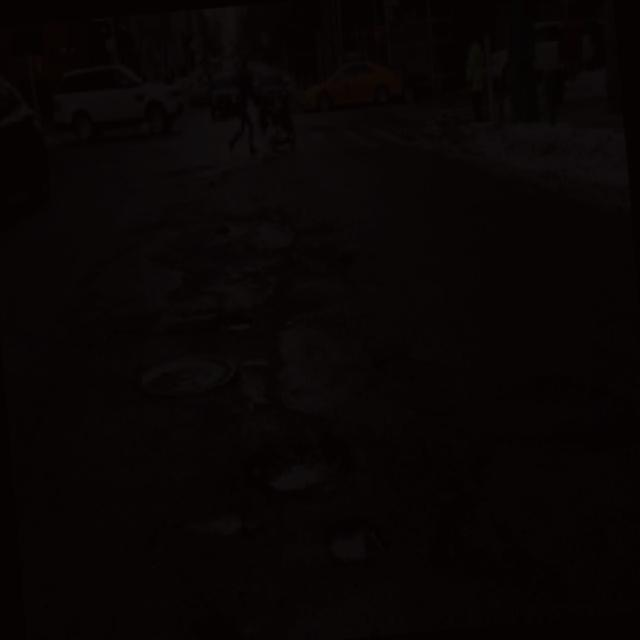Pothole: (430, 479, 566, 606), (73, 225, 202, 320), (278, 302, 377, 414), (243, 423, 359, 496), (229, 213, 355, 278), (194, 271, 278, 335), (328, 521, 394, 568), (190, 504, 260, 542)
